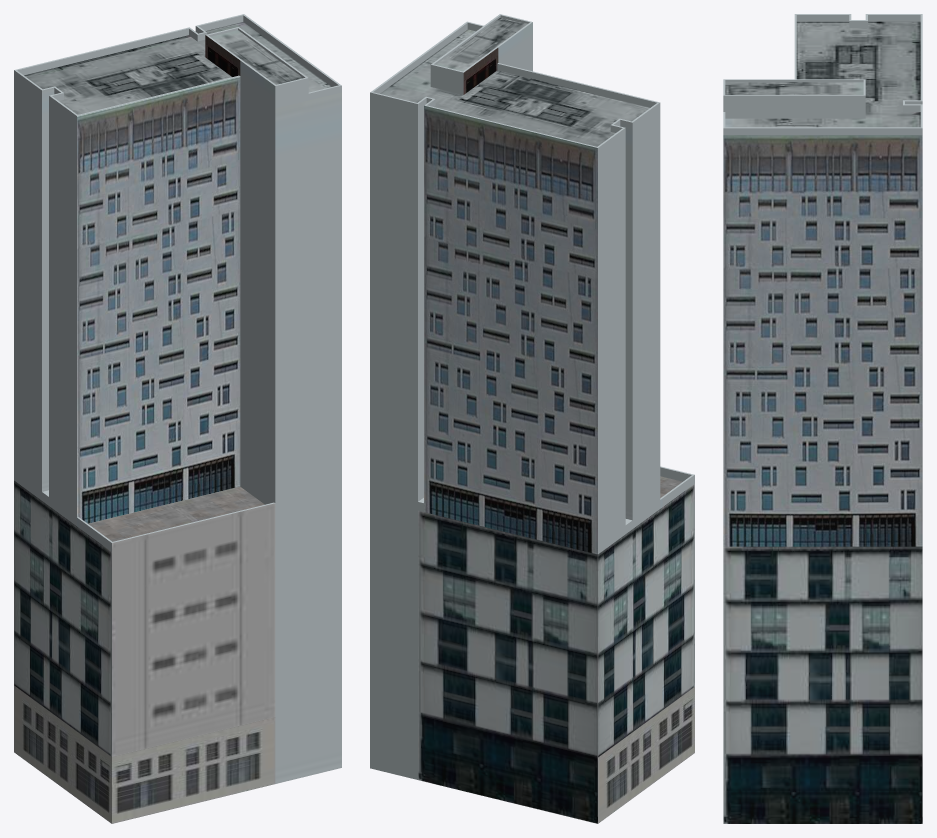
3 renders of one model, left to right at view 1: azimuth 30°, elevation 25°; view 2: azimuth 150°, elevation 25°; view 3: azimuth 270°, elevation 25°, orthographic. The views are drawn at different scales.
Parts seen in each view (by area): view 1: HN1103_IDMCBuilding; view 2: HN1103_IDMCBuilding; view 3: HN1103_IDMCBuilding.
Part boxes in pixels (x1=…): HN1103_IDMCBuilding: x1=14, y1=14, x2=341, y2=823; HN1103_IDMCBuilding: x1=370, y1=14, x2=694, y2=823; HN1103_IDMCBuilding: x1=723, y1=14, x2=922, y2=823.
Size of the model in its own units: 38 by 110 by 28.
1 material, 1 textured.
